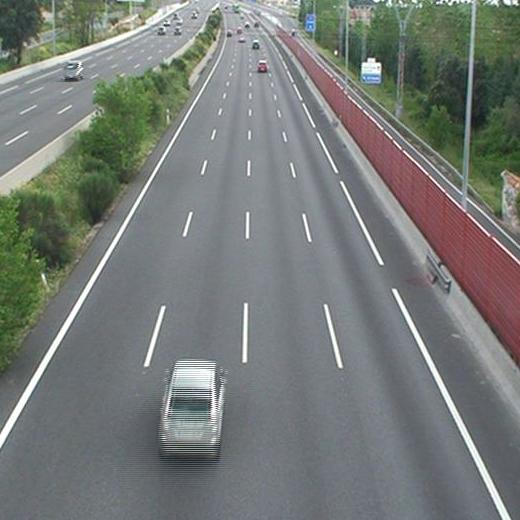car: (159, 362, 221, 451), (257, 61, 267, 72), (251, 40, 258, 48)
